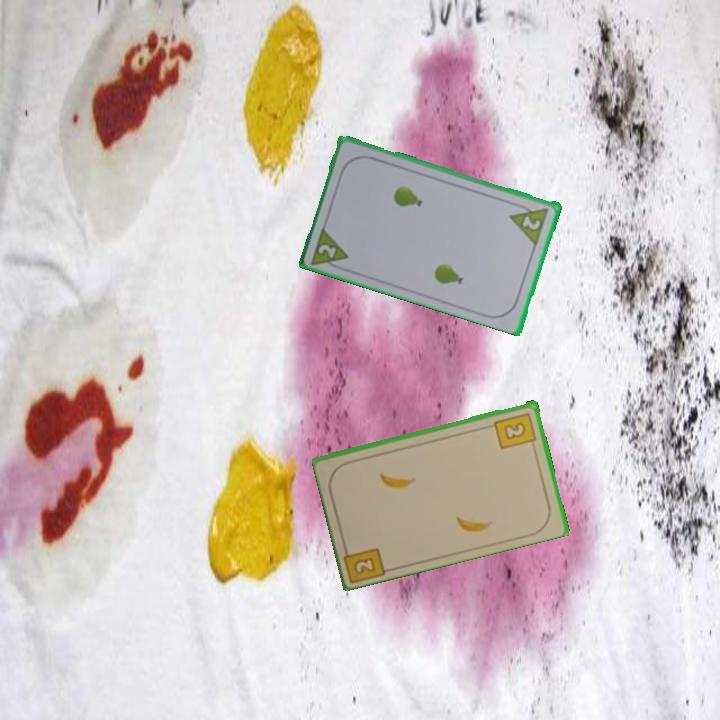2b: (340, 540, 390, 584), (491, 409, 539, 452)
2p: (308, 223, 352, 274), (519, 212, 544, 233)
